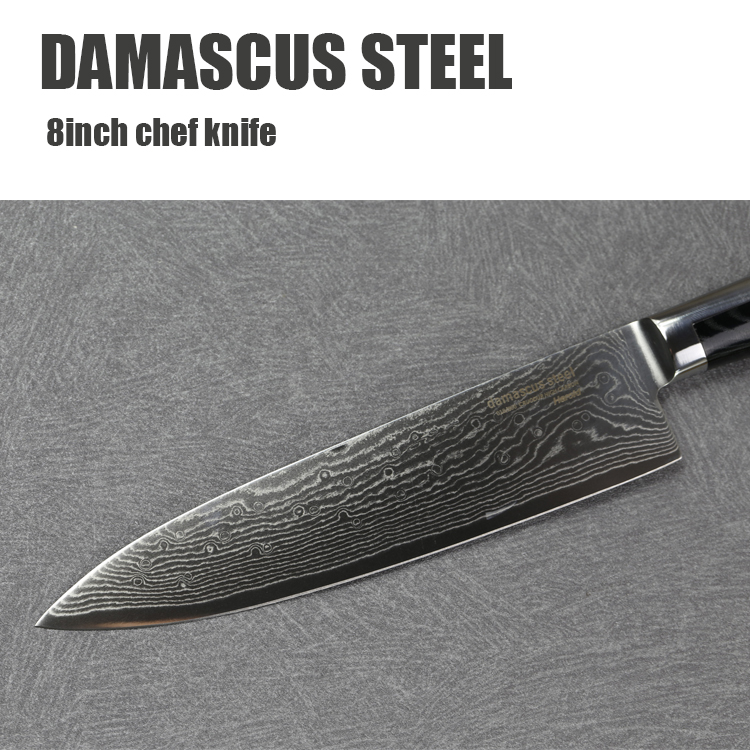knief: (35, 277, 744, 663)
